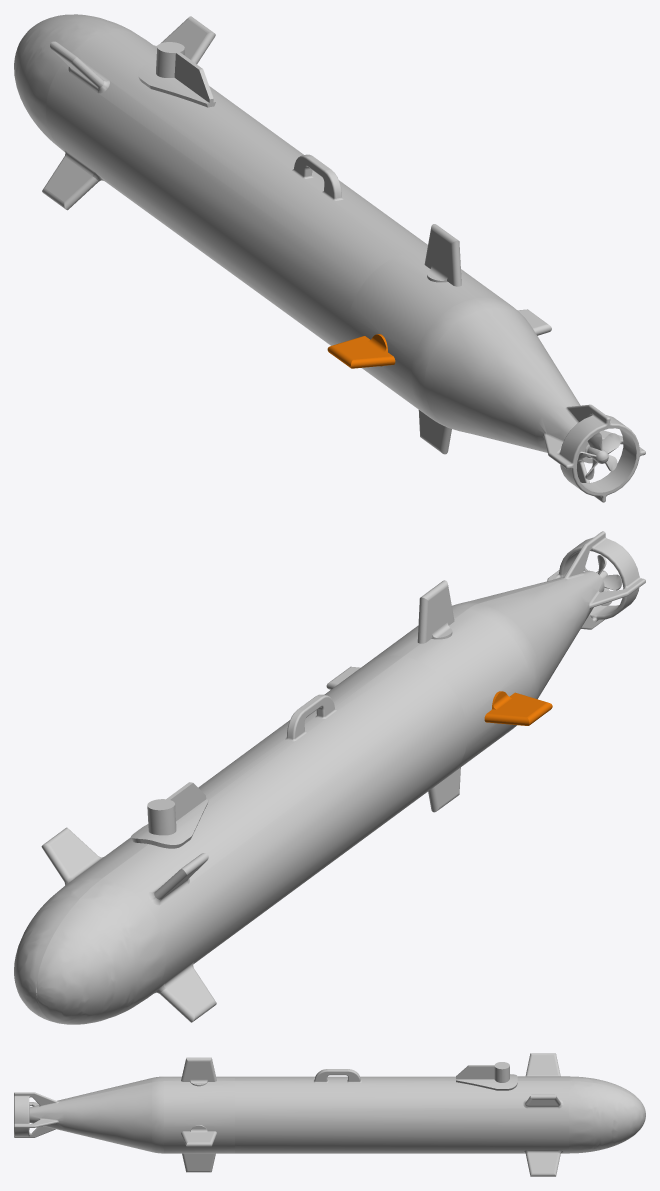
The model's file is AUV2.dae.
3 renders of one model, top to bottom at view 1: azimuth 30°, elevation 25°; view 2: azimuth 150°, elevation 25°; view 3: azimuth 270°, elevation 25°, orthographic. The views are drawn at different scales.
Visible parts, largest first — view 1: empty_3, empty_4, empty_10, empty_5, empty_2, empty_11, empty_7; view 2: empty_3, empty_4, empty_10, empty_5, empty_2, empty_7; view 3: empty_3, empty_4, empty_10, empty_5, empty_7, empty_6.
Part boxes in pixels (left/top/right/bottom): empty_3: left=14, top=14, right=427, bottom=370; empty_4: left=347, top=251, right=645, bottom=502; empty_10: left=138, top=42, right=215, bottom=107; empty_5: left=424, top=224, right=461, bottom=286; empty_2: left=327, top=334, right=395, bottom=368; empty_11: left=577, top=432, right=620, bottom=479; empty_7: left=418, top=410, right=451, bottom=454; empty_3: left=14, top=655, right=467, bottom=1024; empty_4: left=368, top=531, right=645, bottom=774; empty_10: left=131, top=782, right=208, bottom=848; empty_5: left=417, top=580, right=454, bottom=643; empty_2: left=484, top=691, right=552, bottom=725; empty_7: left=428, top=767, right=460, bottom=812; empty_3: left=235, top=1053, right=645, bottom=1176; empty_4: left=14, top=1076, right=234, bottom=1153; empty_10: left=456, top=1062, right=517, bottom=1090; empty_5: left=181, top=1057, right=216, bottom=1086; empty_7: left=182, top=1153, right=215, bottom=1172; empty_6: left=181, top=1125, right=216, bottom=1146.
Bounding box in the file's own units: 0.4124 × 2.02 × 0.4123.
